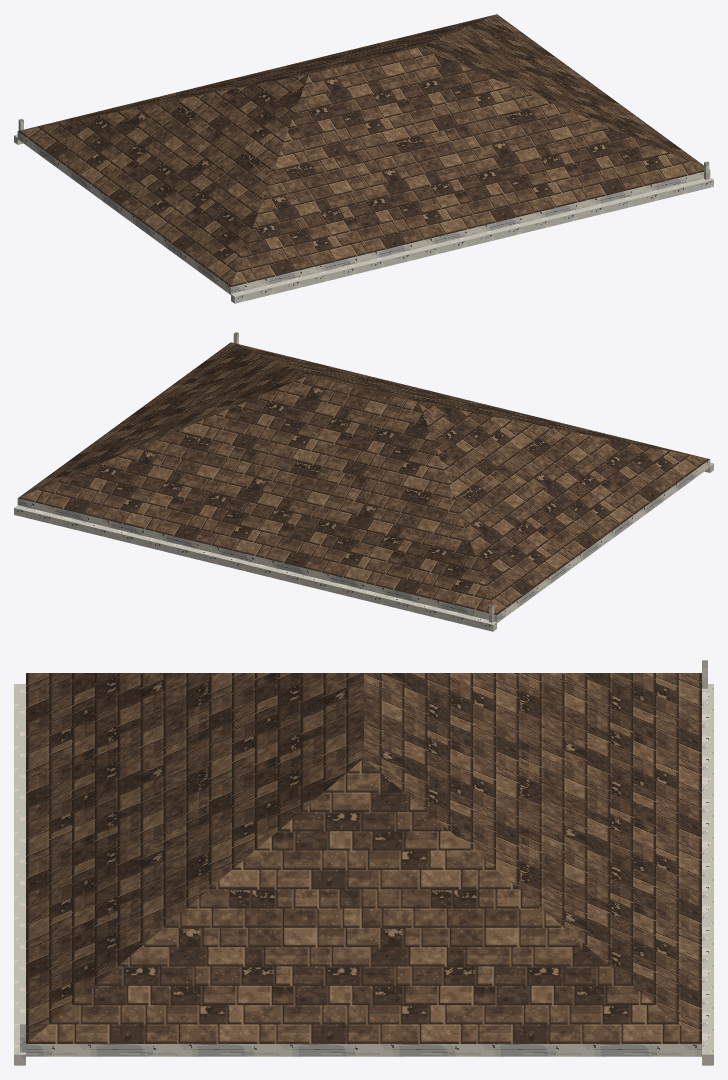
File: RES_Ext_Roof_Hip_8x6.obj
3 renders of one model, top to bottom at view 1: azimuth 30°, elevation 25°; view 2: azimuth 150°, elevation 25°; view 3: azimuth 270°, elevation 25°, orthographic. The views are drawn at different scales.
Visible parts, largest first — view 1: RES_Ext_Roof_Hip_8x6_Mesh_M_Arch_RoofShinglesBrown, RES_Ext_Roof_Hip_8x6_Mesh_M_Town_PaintWhite, RES_Ext_Roof_Hip_8x6_Mesh_M_Arch_TrimPainted; view 2: RES_Ext_Roof_Hip_8x6_Mesh_M_Arch_RoofShinglesBrown, RES_Ext_Roof_Hip_8x6_Mesh_M_Town_PaintWhite, RES_Ext_Roof_Hip_8x6_Mesh_M_Arch_TrimPainted; view 3: RES_Ext_Roof_Hip_8x6_Mesh_M_Arch_RoofShinglesBrown, RES_Ext_Roof_Hip_8x6_Mesh_M_Town_PaintWhite, RES_Ext_Roof_Hip_8x6_Mesh_M_Arch_TrimPainted.
Boxes of the visible parts, x1,y1,x2,y2 form: RES_Ext_Roof_Hip_8x6_Mesh_M_Arch_RoofShinglesBrown: [18, 14, 709, 286]; RES_Ext_Roof_Hip_8x6_Mesh_M_Town_PaintWhite: [14, 119, 713, 303]; RES_Ext_Roof_Hip_8x6_Mesh_M_Arch_TrimPainted: [17, 131, 710, 294]; RES_Ext_Roof_Hip_8x6_Mesh_M_Arch_RoofShinglesBrown: [18, 342, 709, 614]; RES_Ext_Roof_Hip_8x6_Mesh_M_Town_PaintWhite: [14, 332, 713, 631]; RES_Ext_Roof_Hip_8x6_Mesh_M_Arch_TrimPainted: [17, 459, 710, 622]; RES_Ext_Roof_Hip_8x6_Mesh_M_Arch_RoofShinglesBrown: [26, 673, 701, 1043]; RES_Ext_Roof_Hip_8x6_Mesh_M_Town_PaintWhite: [14, 660, 713, 1065]; RES_Ext_Roof_Hip_8x6_Mesh_M_Arch_TrimPainted: [26, 1044, 701, 1056].
Size of the model in its own units: 8.7 by 1.8 by 6.94.
3 materials, 3 textured.
